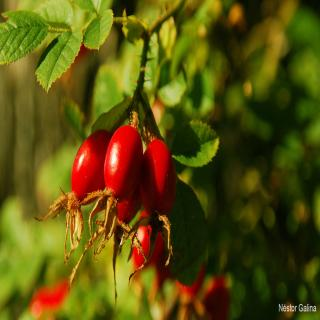tomato: (33, 130, 110, 268), (83, 124, 143, 258), (123, 139, 176, 278), (131, 211, 165, 280)
